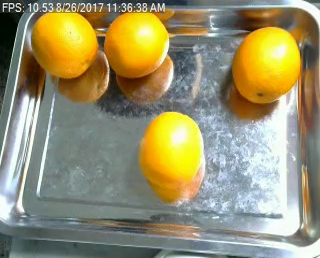Orange: (232, 24, 300, 104), (30, 9, 98, 79), (139, 110, 202, 184), (104, 8, 170, 78)
